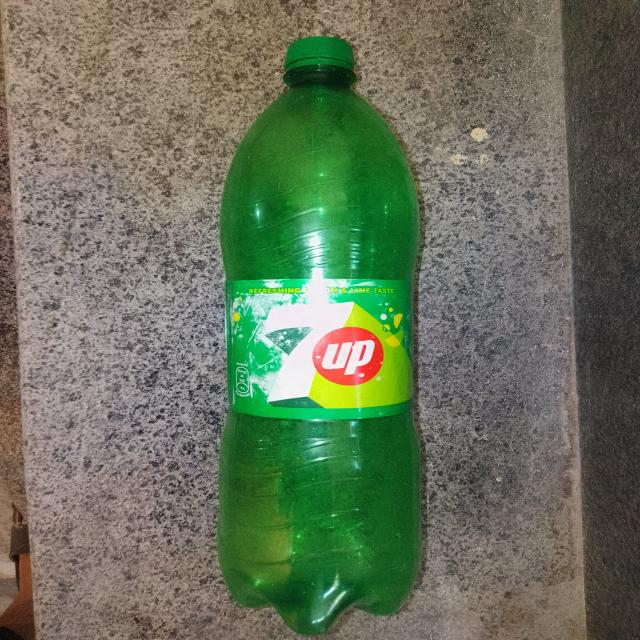bottle: (203, 21, 453, 640)
cap: (270, 32, 378, 85)
label: (217, 271, 430, 428)
